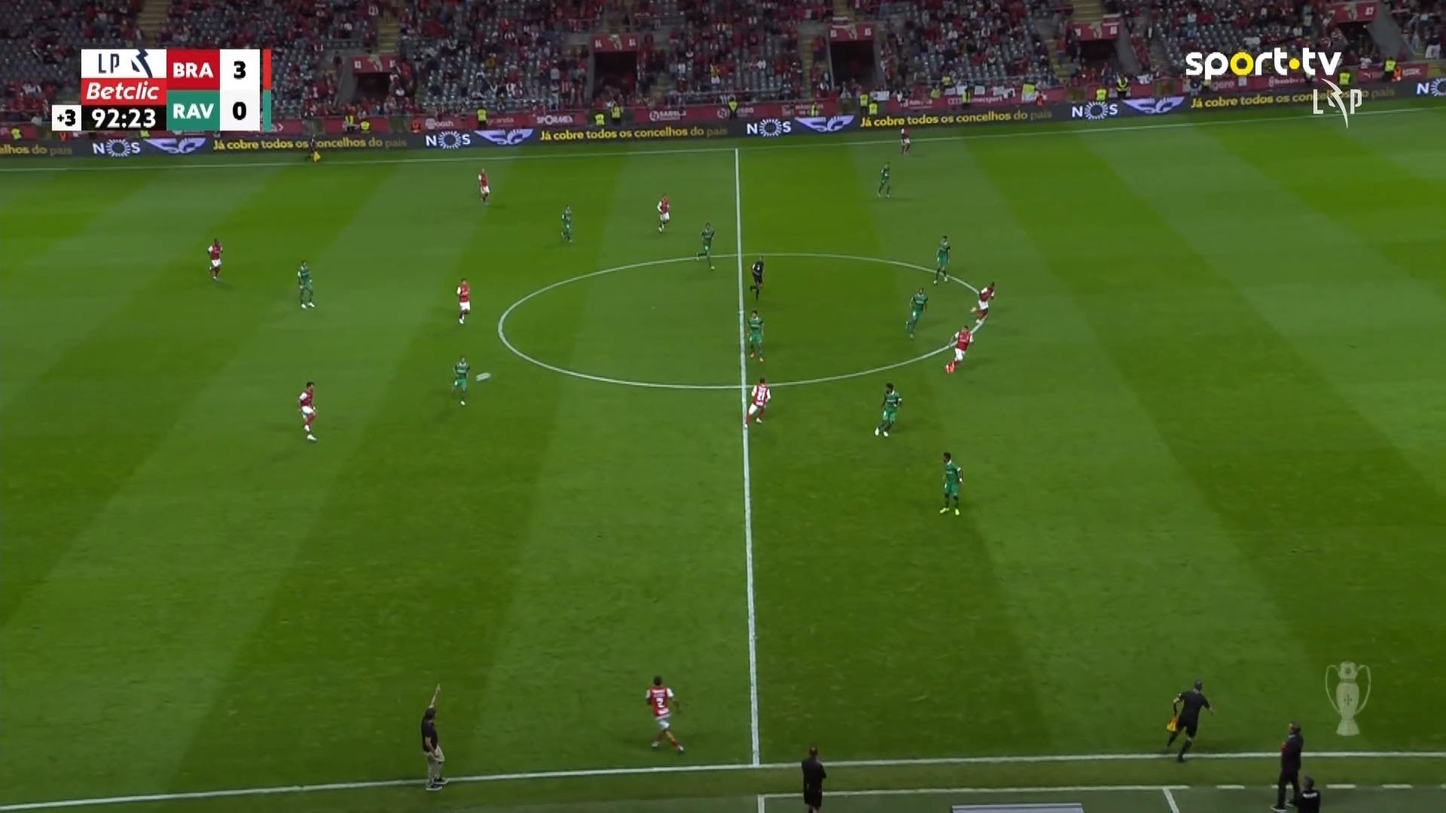ball: (475, 372, 490, 382)
player: (644, 674, 685, 754), (938, 451, 963, 516), (874, 382, 901, 437), (743, 377, 770, 428), (969, 280, 996, 329), (297, 380, 318, 442), (947, 324, 973, 370), (905, 287, 927, 338), (451, 355, 470, 406), (746, 309, 764, 362), (932, 234, 951, 284), (296, 260, 315, 309), (697, 221, 715, 269), (455, 278, 471, 324), (206, 237, 223, 279), (655, 193, 670, 232), (876, 160, 891, 198), (560, 204, 573, 242), (477, 166, 490, 203), (898, 126, 911, 155)
referee: (1164, 678, 1214, 762), (1271, 720, 1304, 811), (420, 684, 448, 790), (801, 744, 826, 811), (749, 254, 764, 300), (304, 133, 321, 163)
